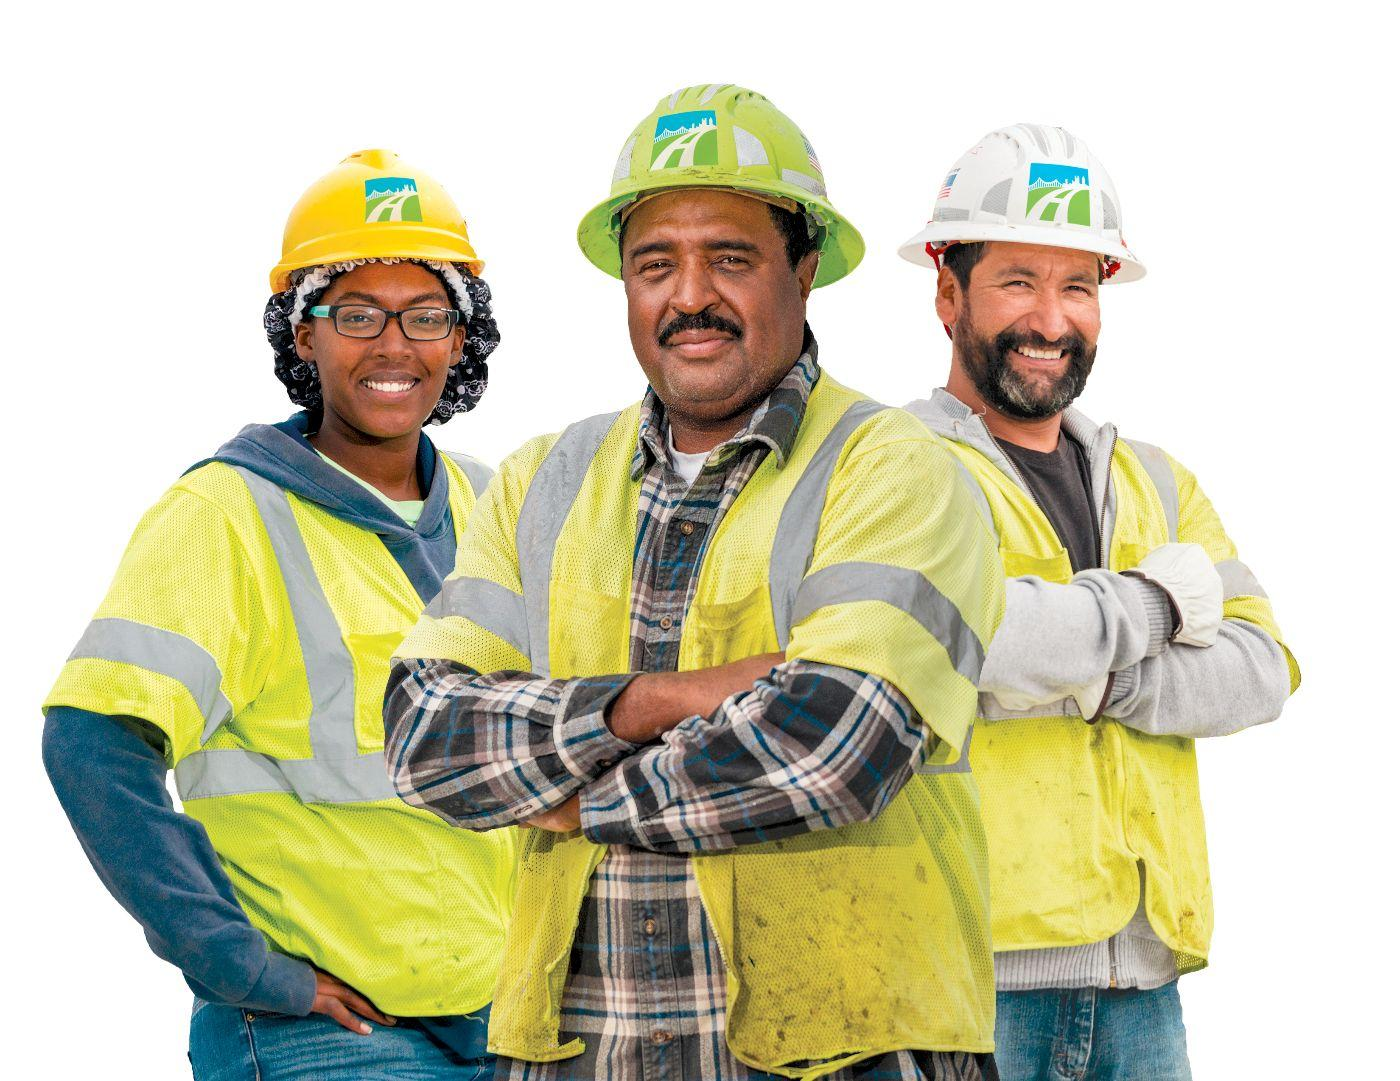helmet: (577, 84, 869, 298), (897, 119, 1149, 277), (265, 149, 487, 307)
